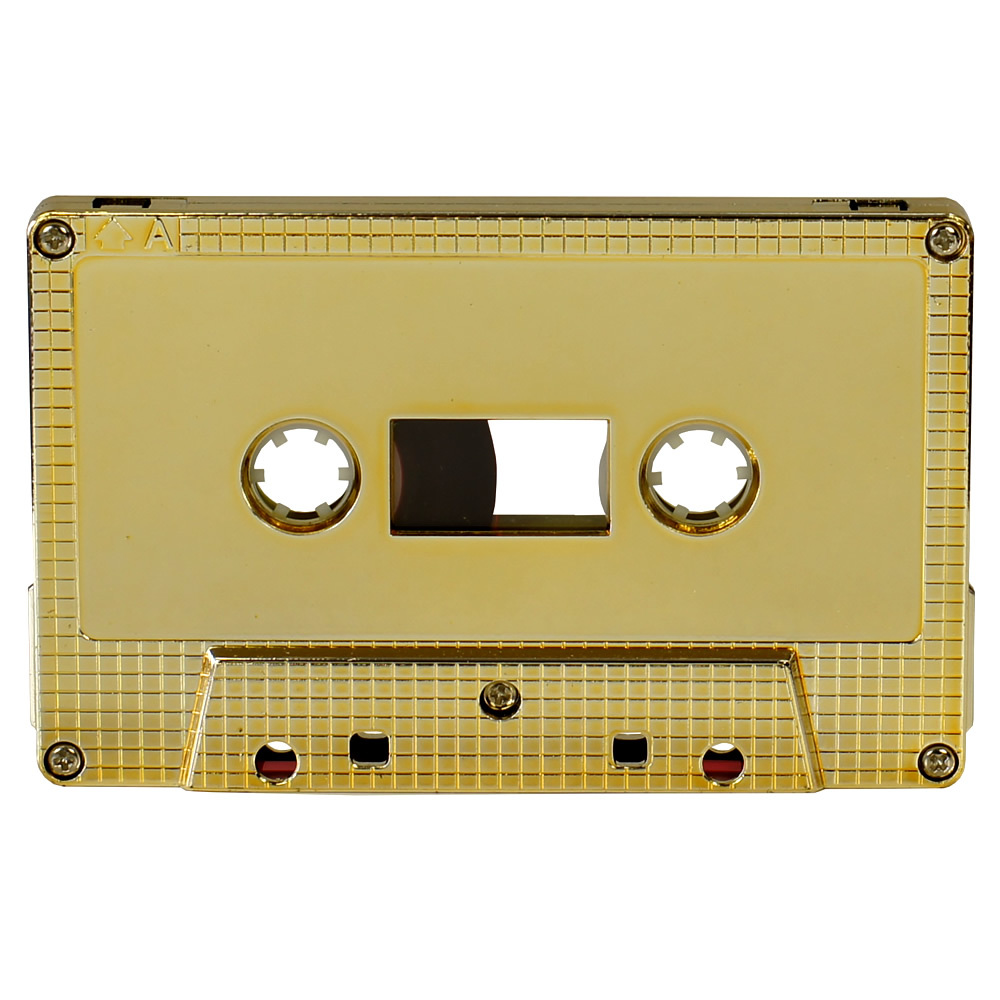Nonrec_Other: (1, 190, 984, 828)
